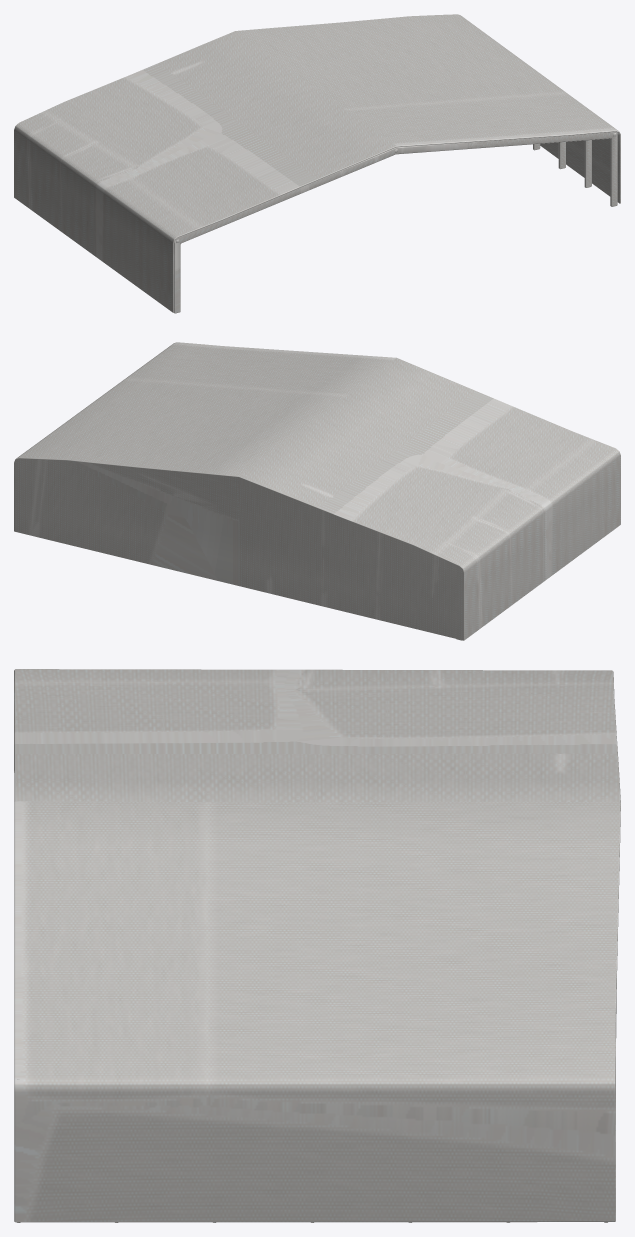
Rendered from Huge_Tent.fbx.
3 views of the same model, one above another, from view 1: azimuth 30°, elevation 25°; view 2: azimuth 150°, elevation 25°; view 3: azimuth 270°, elevation 25° (orthographic). The views are drawn at different scales.
Parts seen in each view (by area): view 1: Cube.001; view 2: Cube.001; view 3: Cube.001.
Boxes of the visible parts, <box> form: Cube.001: <box>14,14,620,313</box>; Cube.001: <box>14,342,620,640</box>; Cube.001: <box>14,669,620,1222</box>.
Bounding box in the file's own units: 2246 × 546 × 1384.
Materials: 1 (1 with a texture image).
